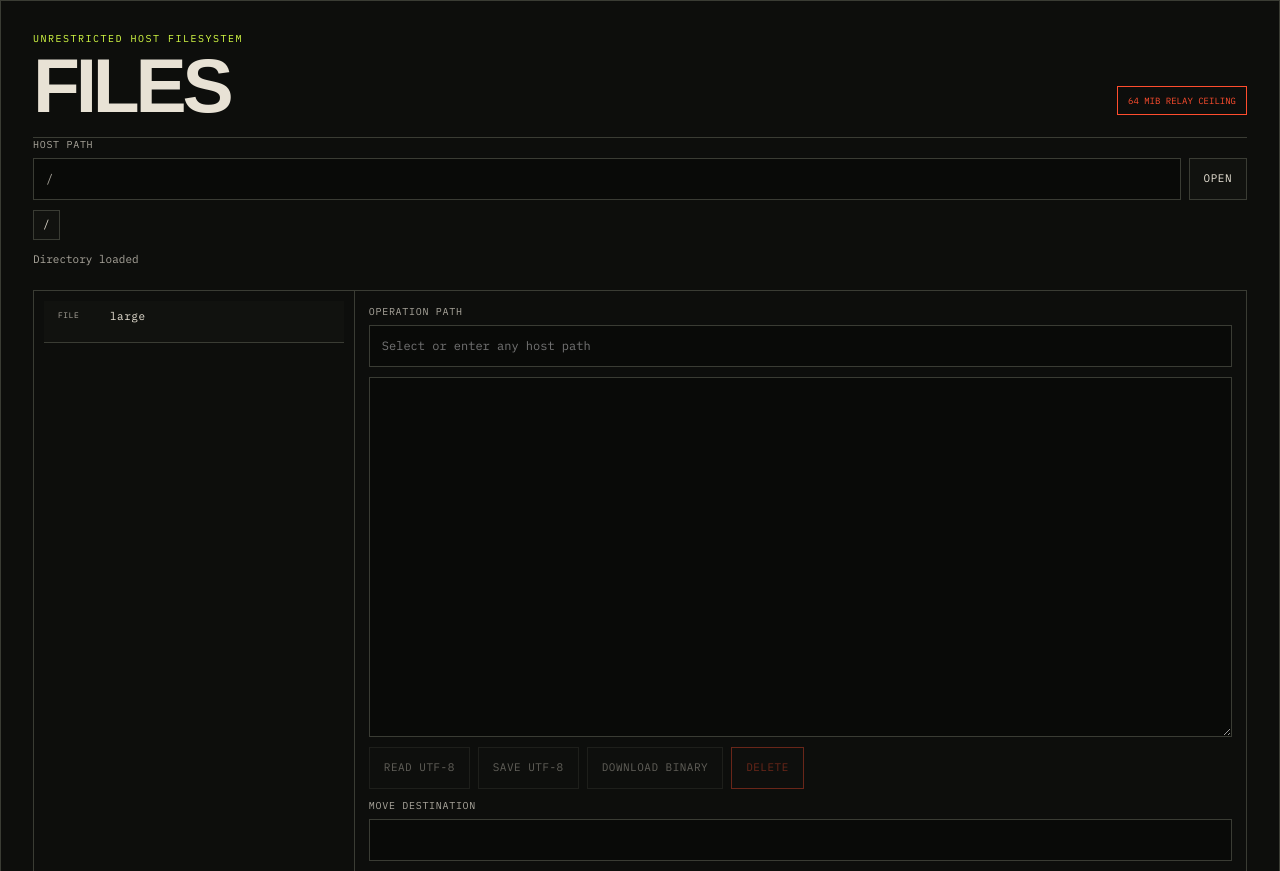
Scenario: complete file previews › keeps save disabled when a later page fails
Click the text "large" at (128, 316), box [110,309,146,323]
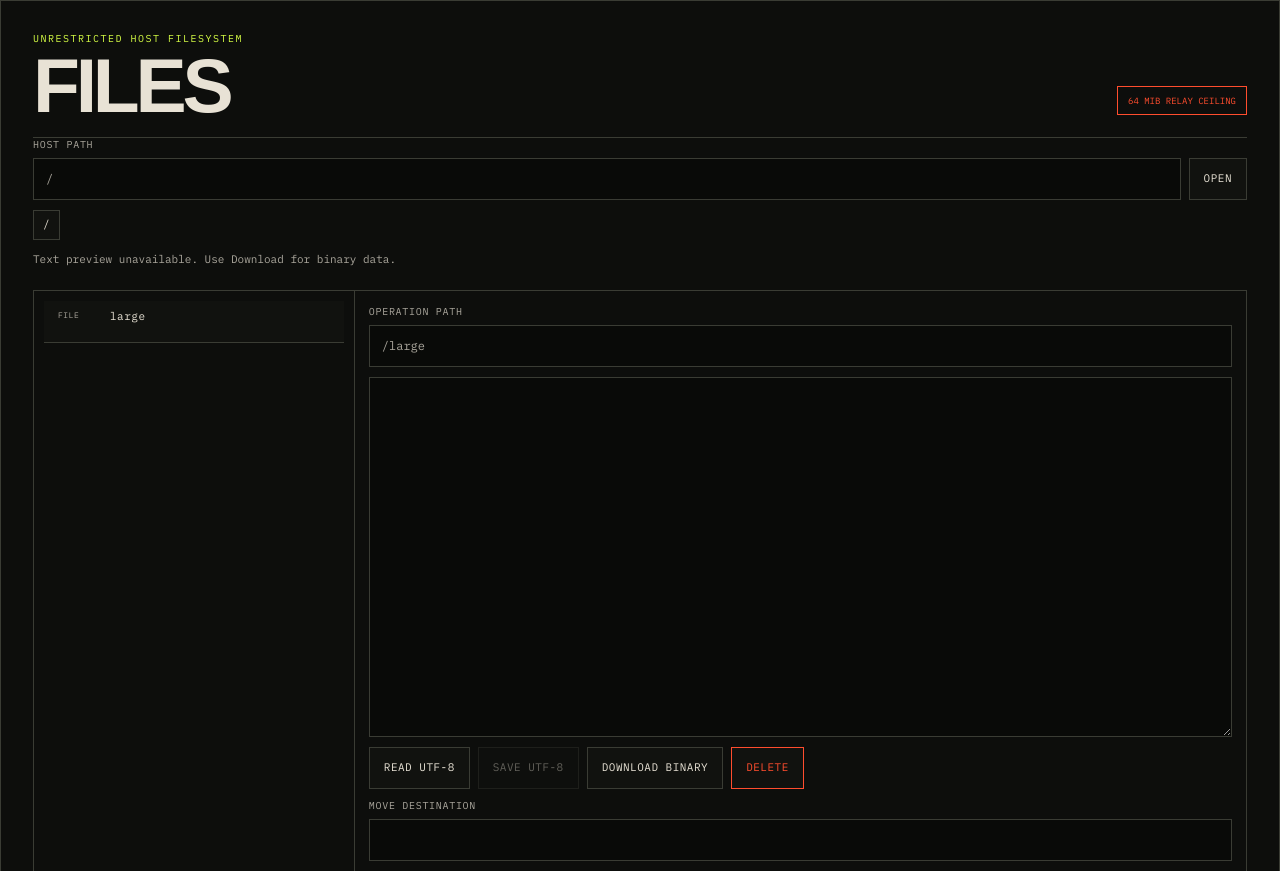
Expected: the button "Save UTF-8" is disabled, [478,747,579,789]
Now the text "Text preview unavailable. Use Download for binary data." is shown, box [33,252,396,266]
